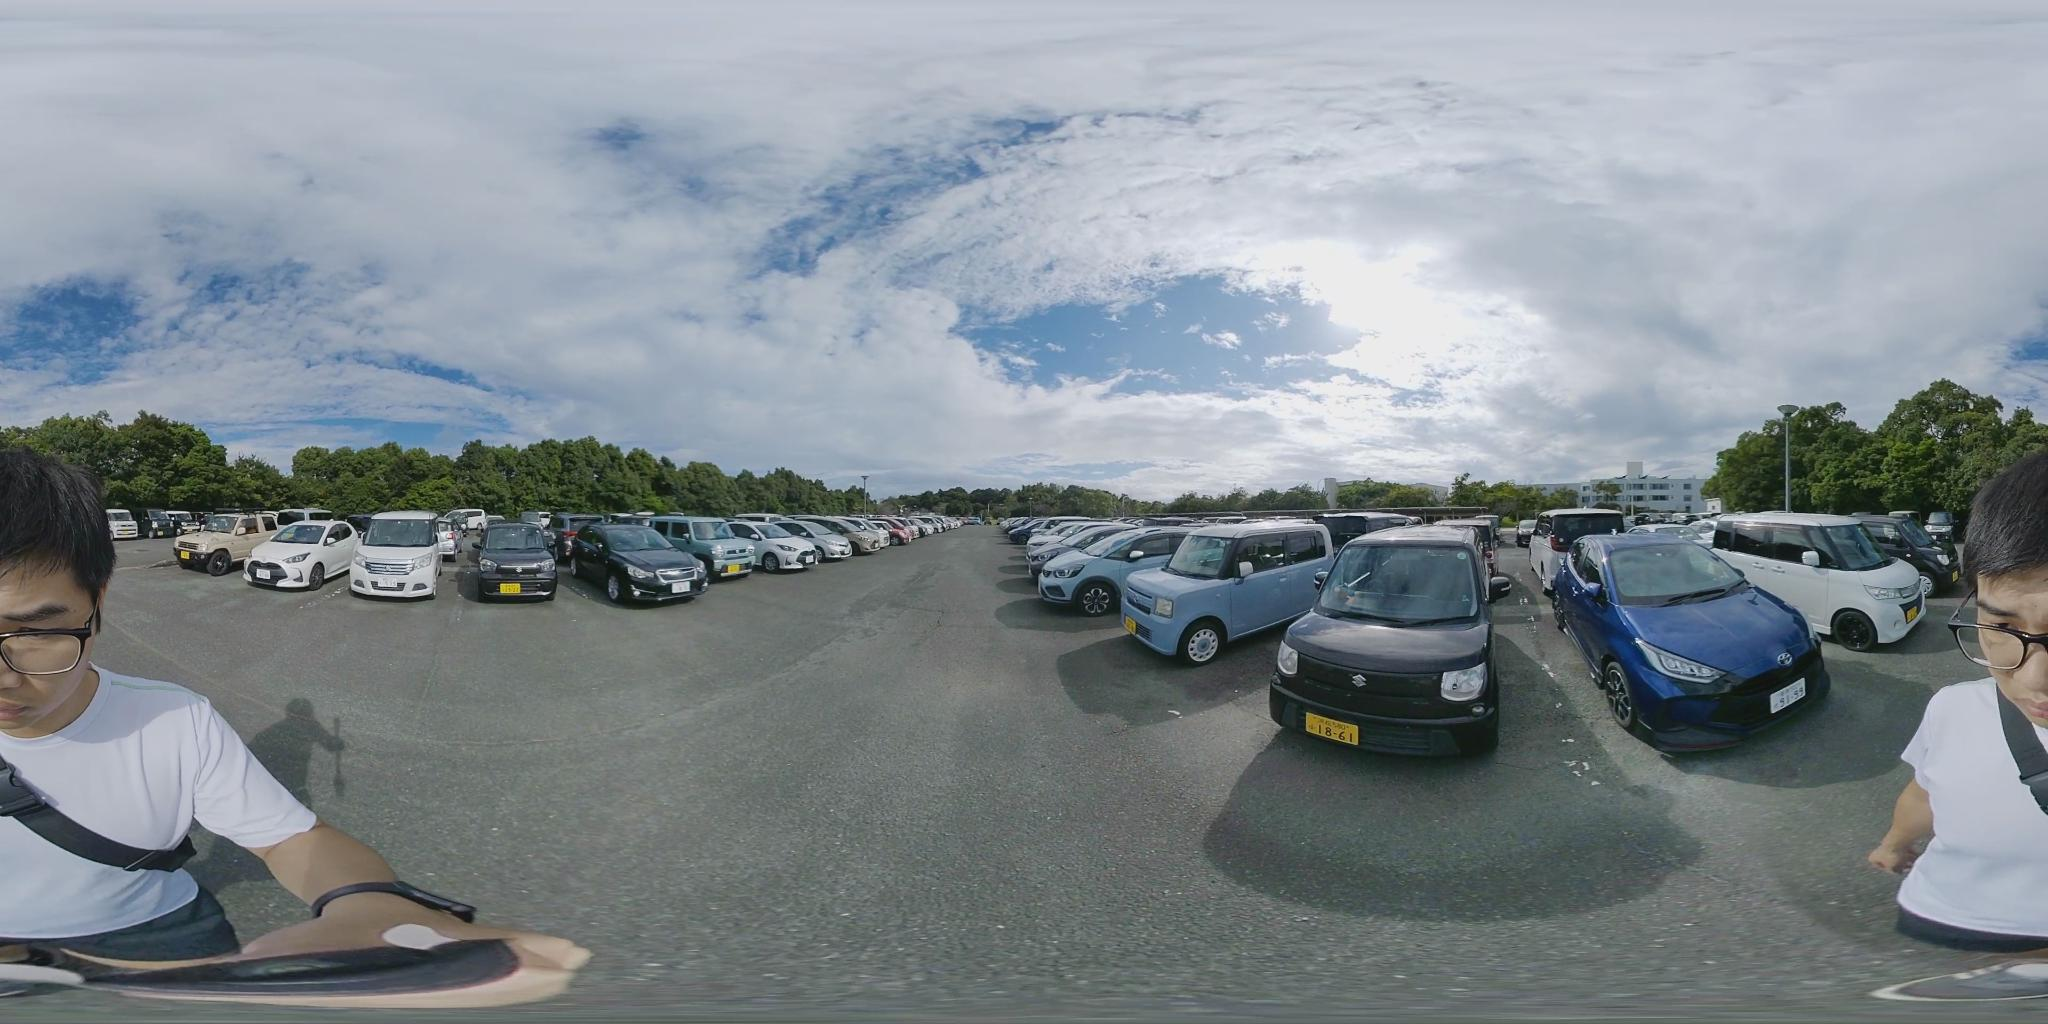car: (1545, 530, 1832, 754), (1267, 525, 1509, 759), (1121, 517, 1398, 666), (1702, 513, 1946, 650), (1040, 525, 1216, 616), (556, 524, 708, 609), (346, 513, 455, 601), (238, 520, 360, 589), (461, 525, 563, 606), (645, 517, 775, 579), (725, 517, 837, 571), (1515, 508, 1637, 552), (1309, 513, 1416, 546), (835, 519, 892, 555)
